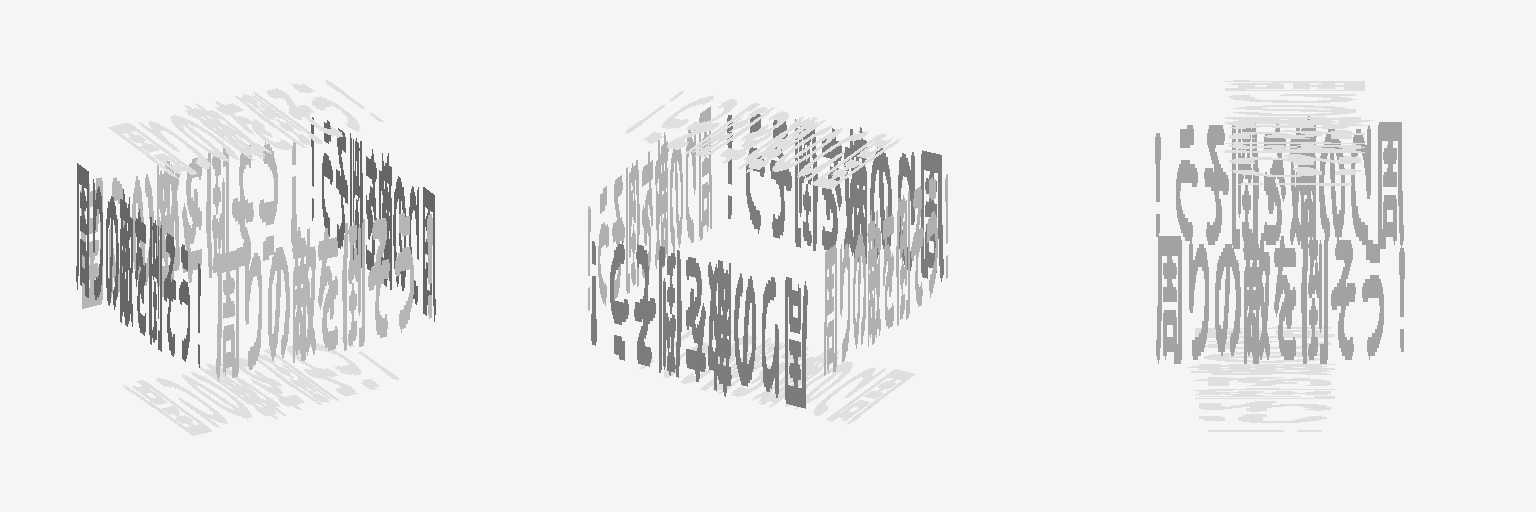
3 renders of one model, left to right at view 1: azimuth 30°, elevation 25°; view 2: azimuth 150°, elevation 25°; view 3: azimuth 270°, elevation 25°, orthographic.
Visible parts, largest first — view 1: EnemyLogo; view 2: EnemyLogo; view 3: EnemyLogo.
Part boxes in pixels (left/top/right/bottom): EnemyLogo: left=76, top=80, right=435, bottom=435; EnemyLogo: left=588, top=91, right=947, bottom=424; EnemyLogo: left=1155, top=80, right=1404, bottom=431.
Bounding box in the file's own units: 2 × 2 × 2.
Materials: 1 (1 with a texture image).